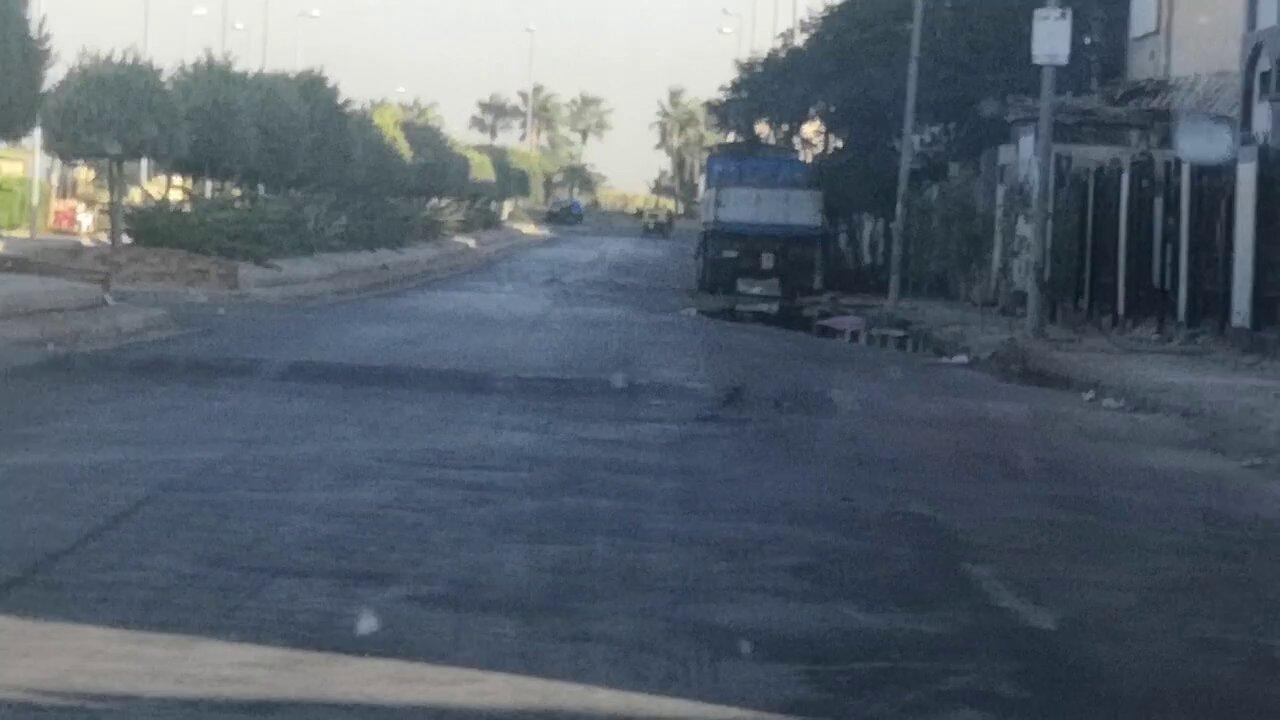Bump: (128, 342, 1082, 440)
